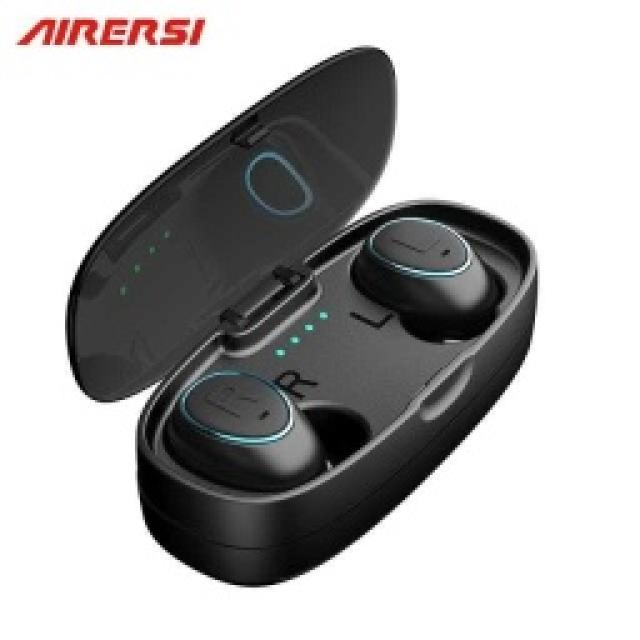headphones: (62, 42, 540, 588)
